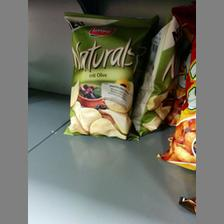Chips: (66, 14, 138, 140)
